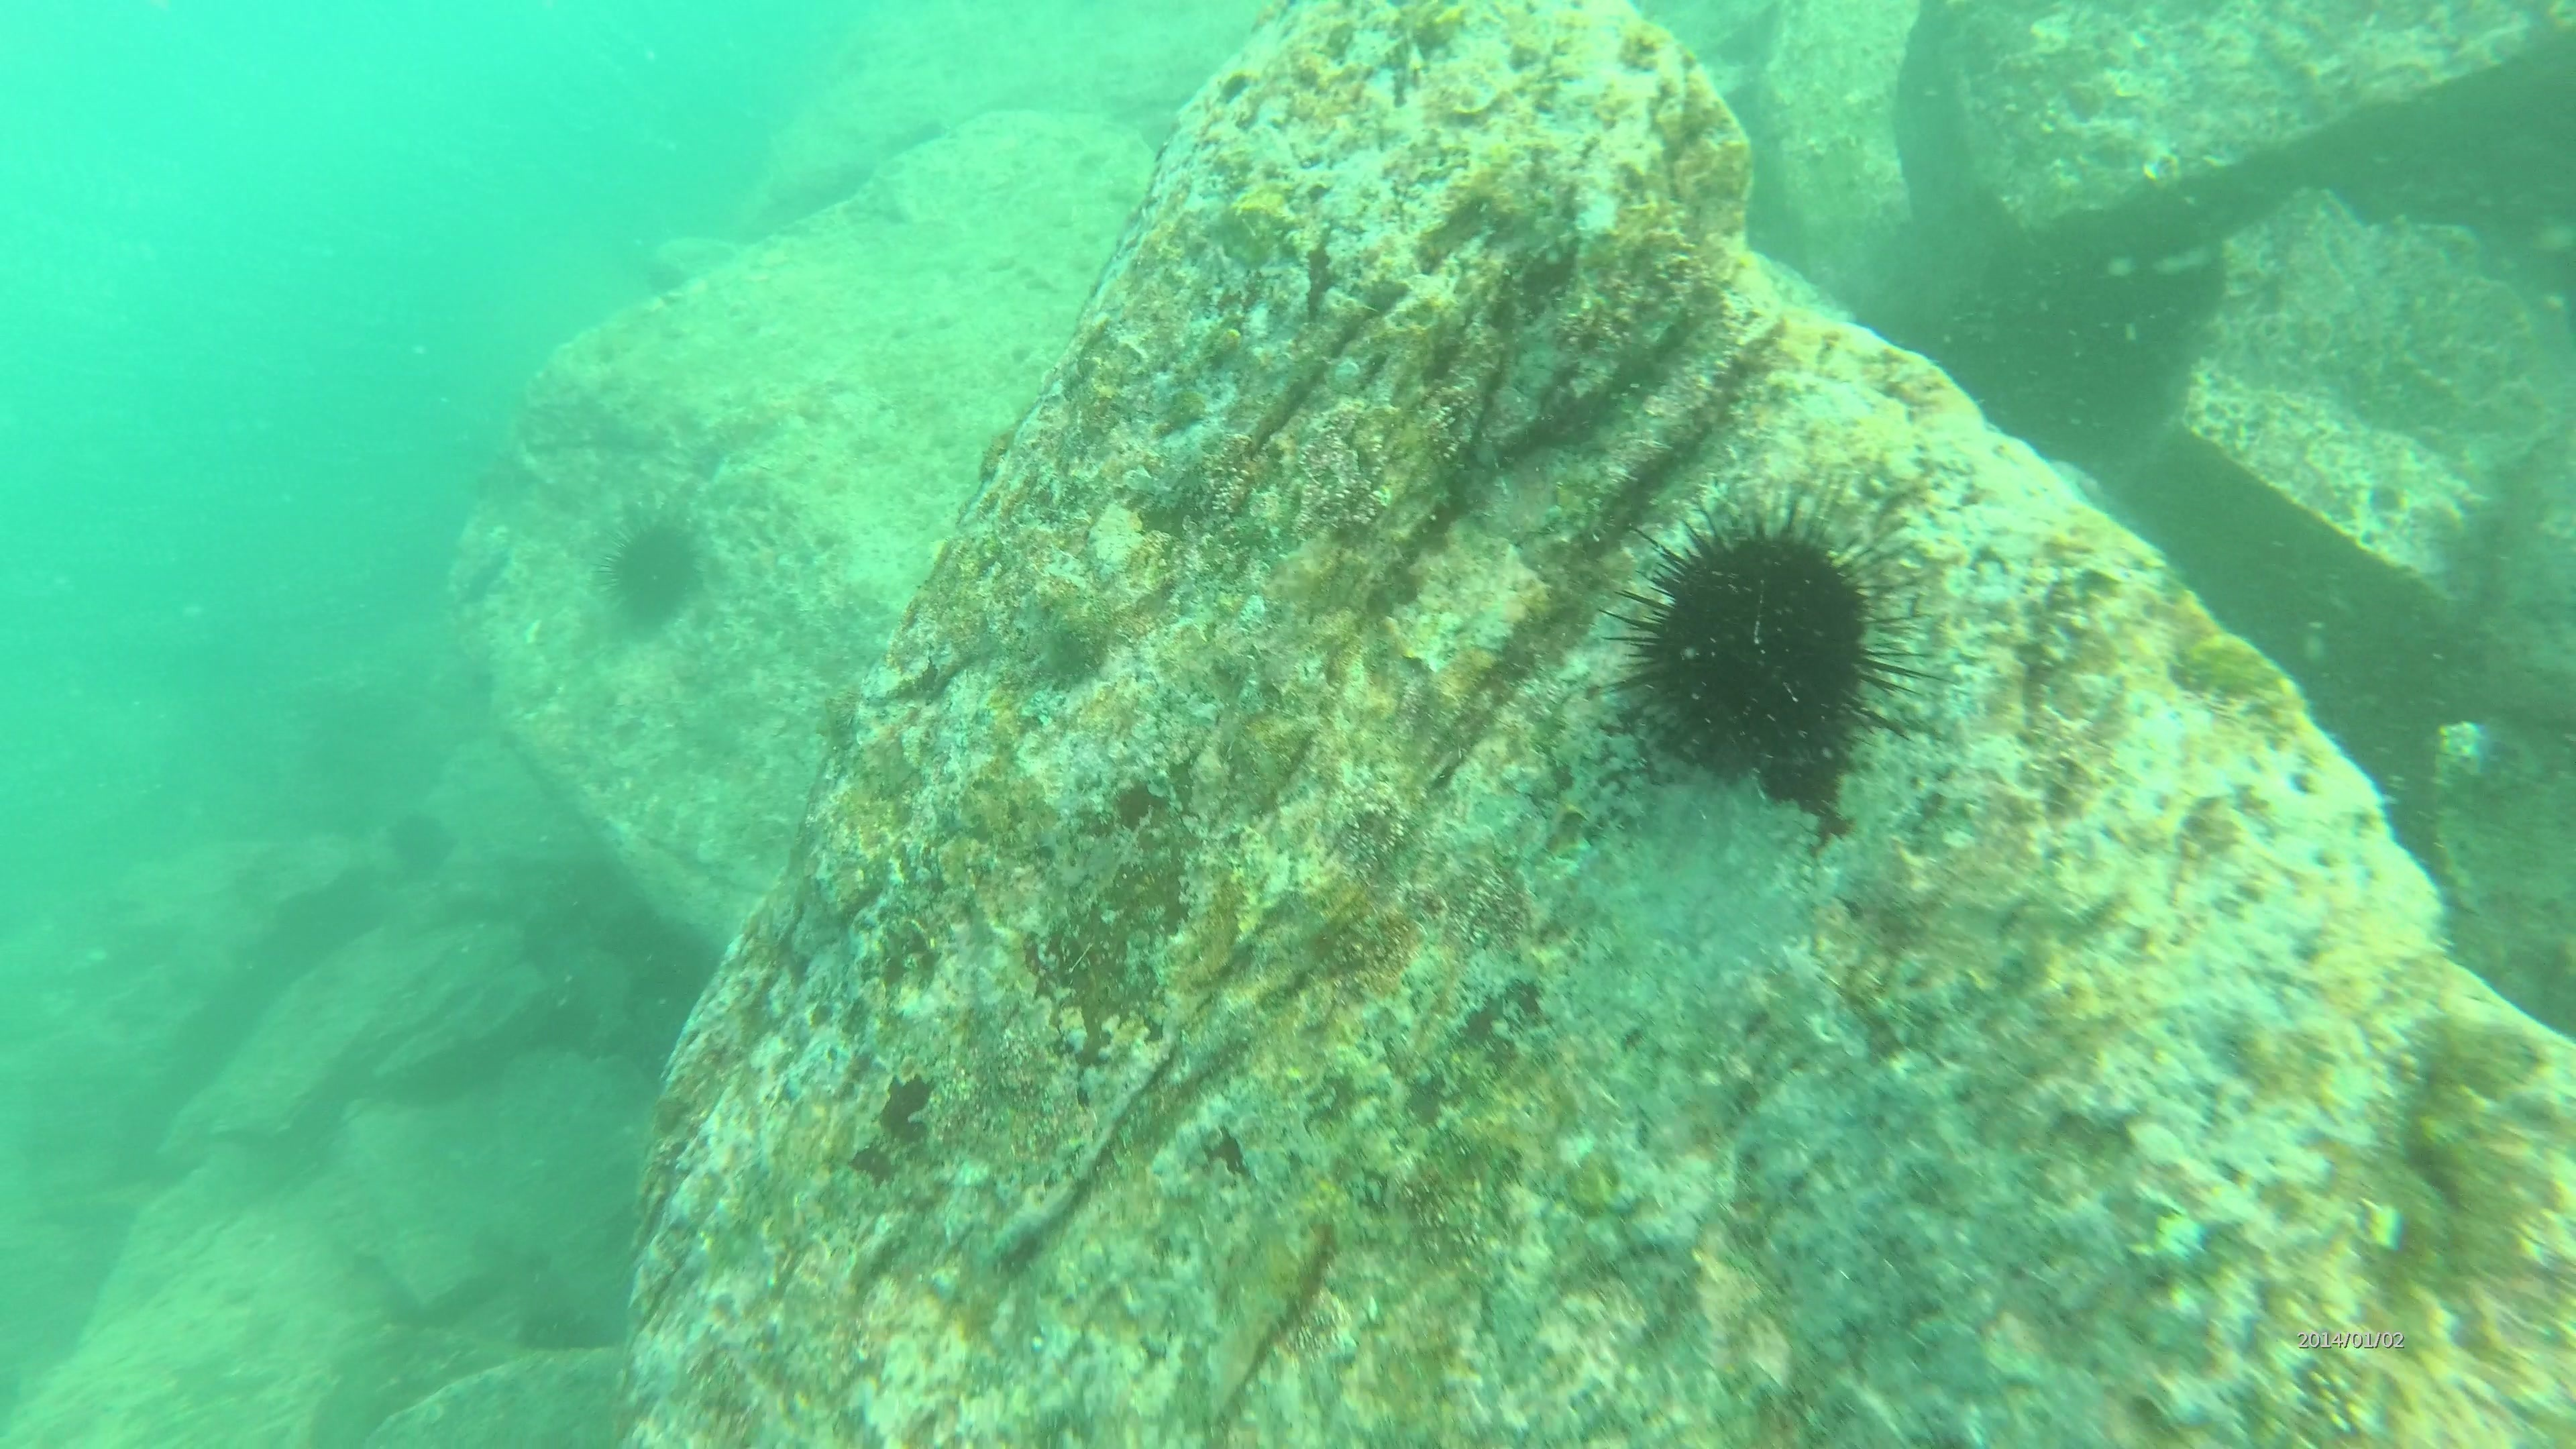echinus: (1605, 492, 1927, 801), (594, 506, 713, 633), (380, 803, 460, 886)
